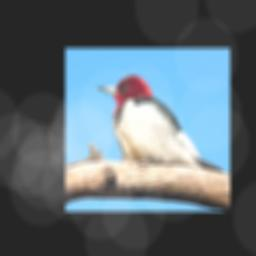Woodpecker: (98, 75, 225, 172)
